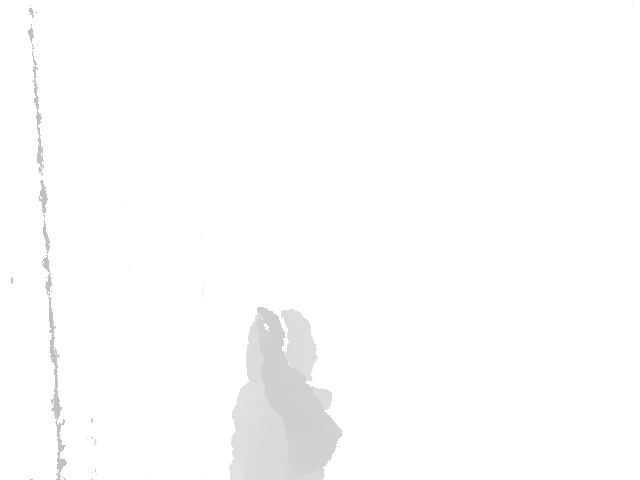hand: (254, 304, 291, 362)
head: (242, 311, 317, 386)
person: (228, 302, 341, 480)
